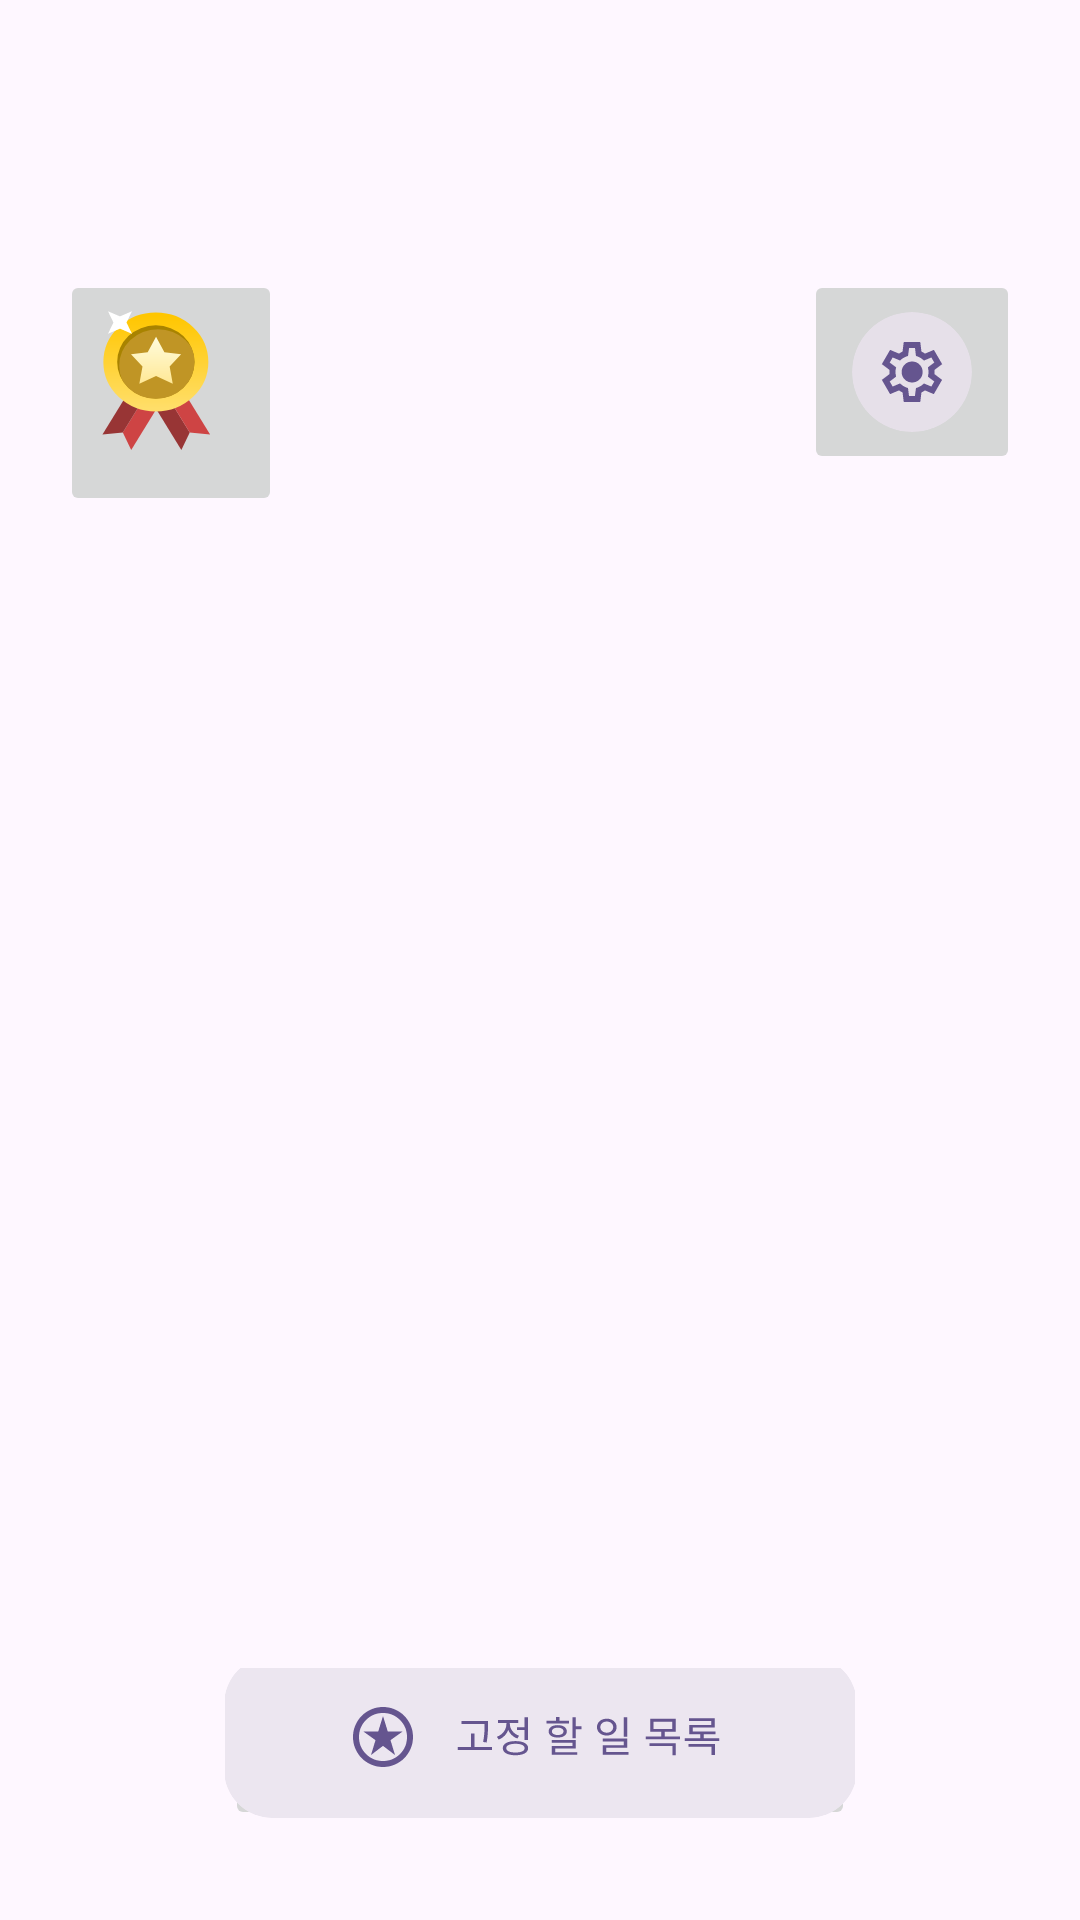

Screen size 1080*1920. Icon name, then its box in pixels as (left=x1, top=y1, right=x2, bottom=y2):
achievement: (left=72, top=288, right=270, bottom=498)
settings: (left=816, top=288, right=1008, bottom=456)
